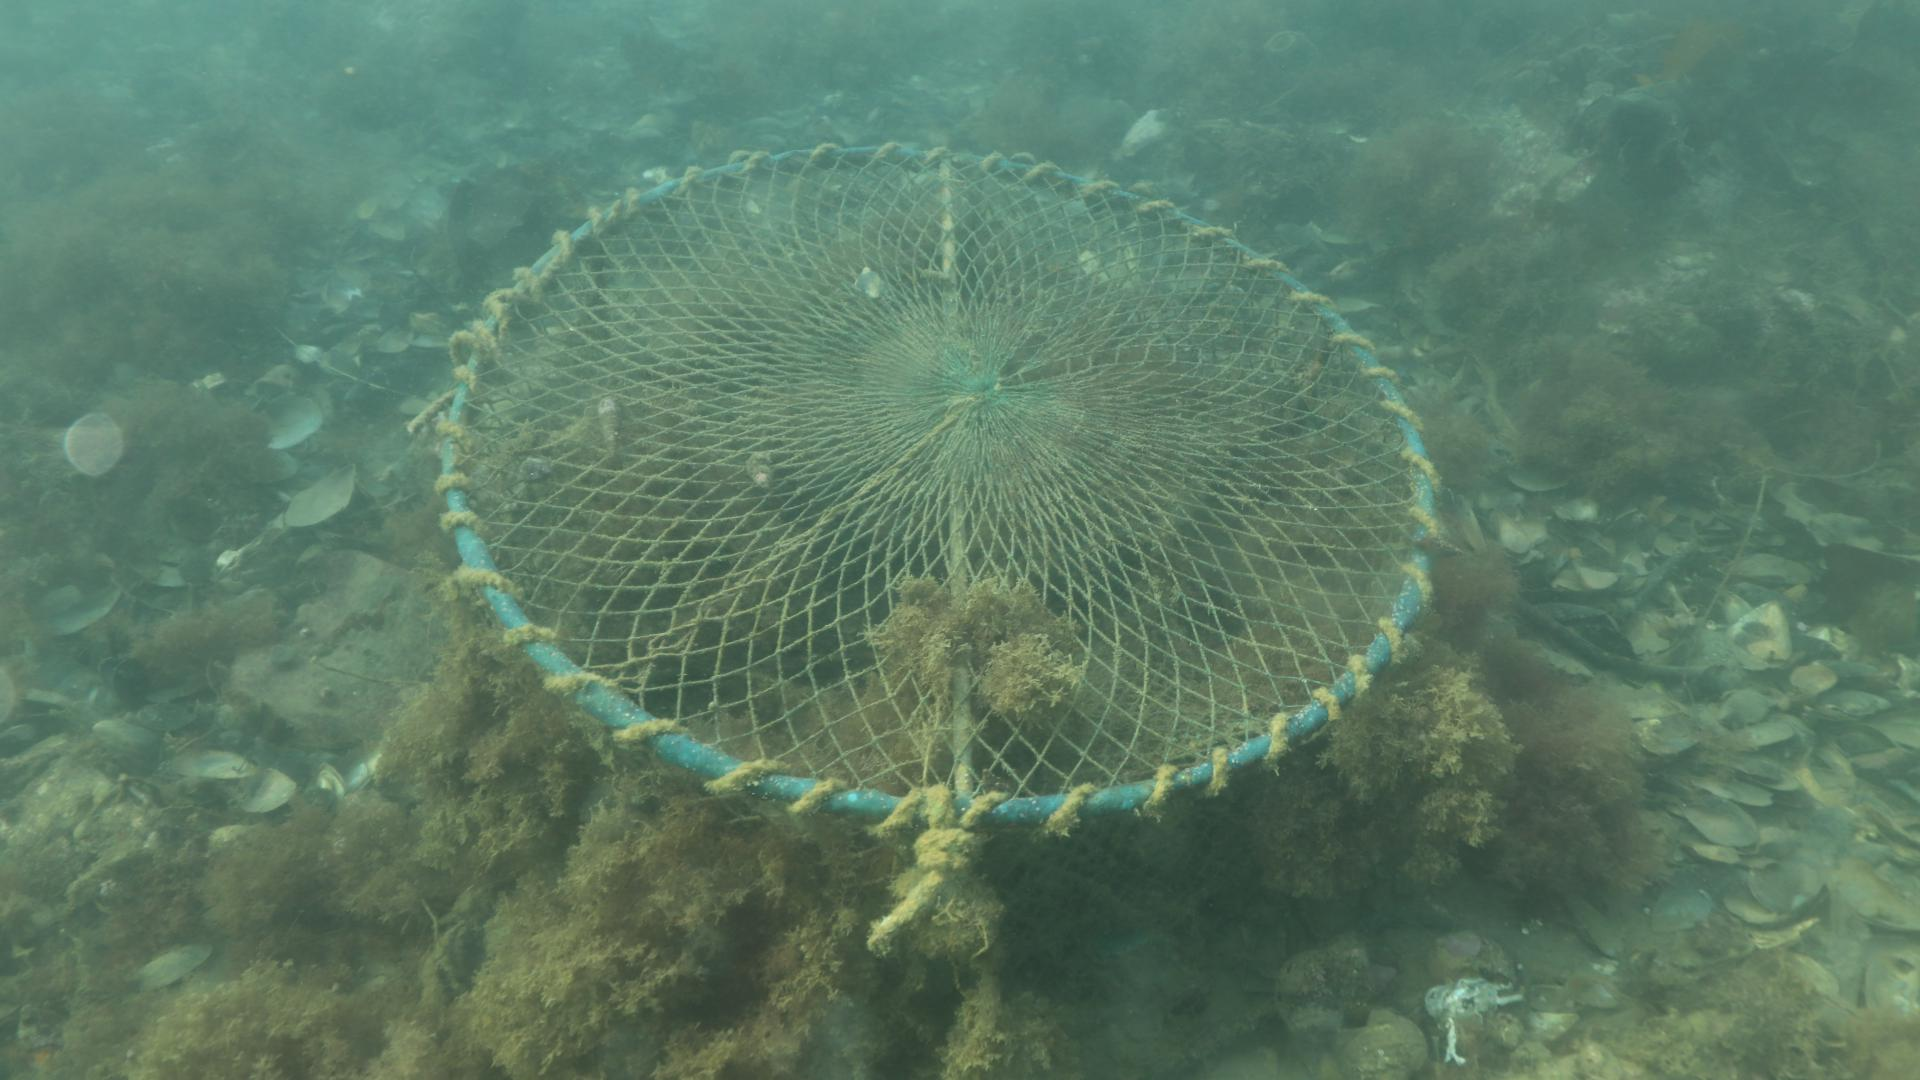circular fish trap: (434, 140, 1444, 980)
